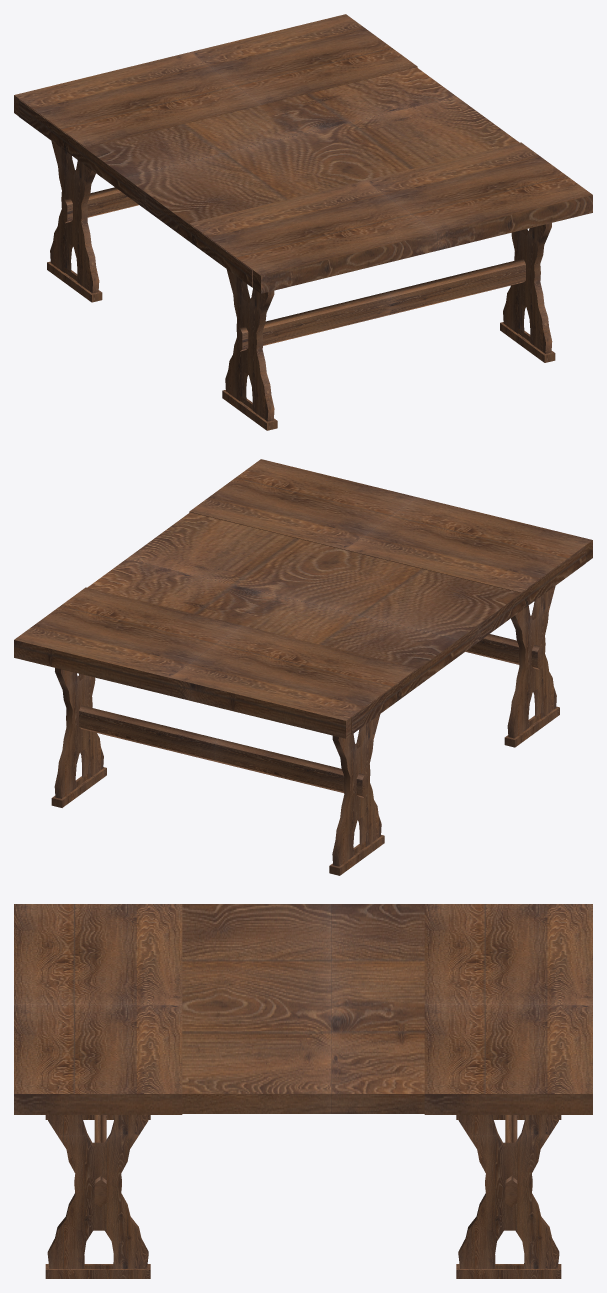
The model's file is tavolo_quadrato.gltf.
The picture shows the model from 3 angles, top to bottom: view 1: azimuth 30°, elevation 25°; view 2: azimuth 150°, elevation 25°; view 3: azimuth 270°, elevation 25°; orthographic projection. The views are drawn at different scales.
Visible parts, largest first — view 1: Box648_temn goriz_0; view 2: Box648_temn goriz_0; view 3: Box648_temn goriz_0.
Part boxes in pixels (bbox=[...]): Box648_temn goriz_0: bbox=[14, 14, 592, 430]; Box648_temn goriz_0: bbox=[14, 459, 592, 875]; Box648_temn goriz_0: bbox=[14, 904, 592, 1278].
Size of the model in its own units: 32.72 by 15.95 by 42.09.
